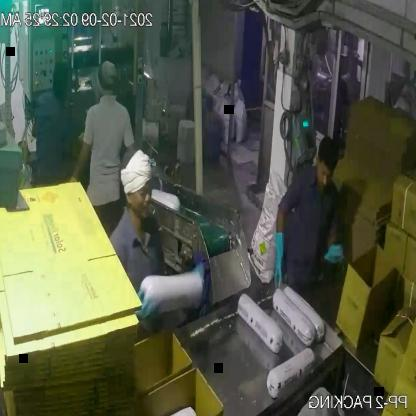glove: (269, 224, 296, 295), (316, 234, 352, 273)
no_glove: (64, 130, 93, 187)
